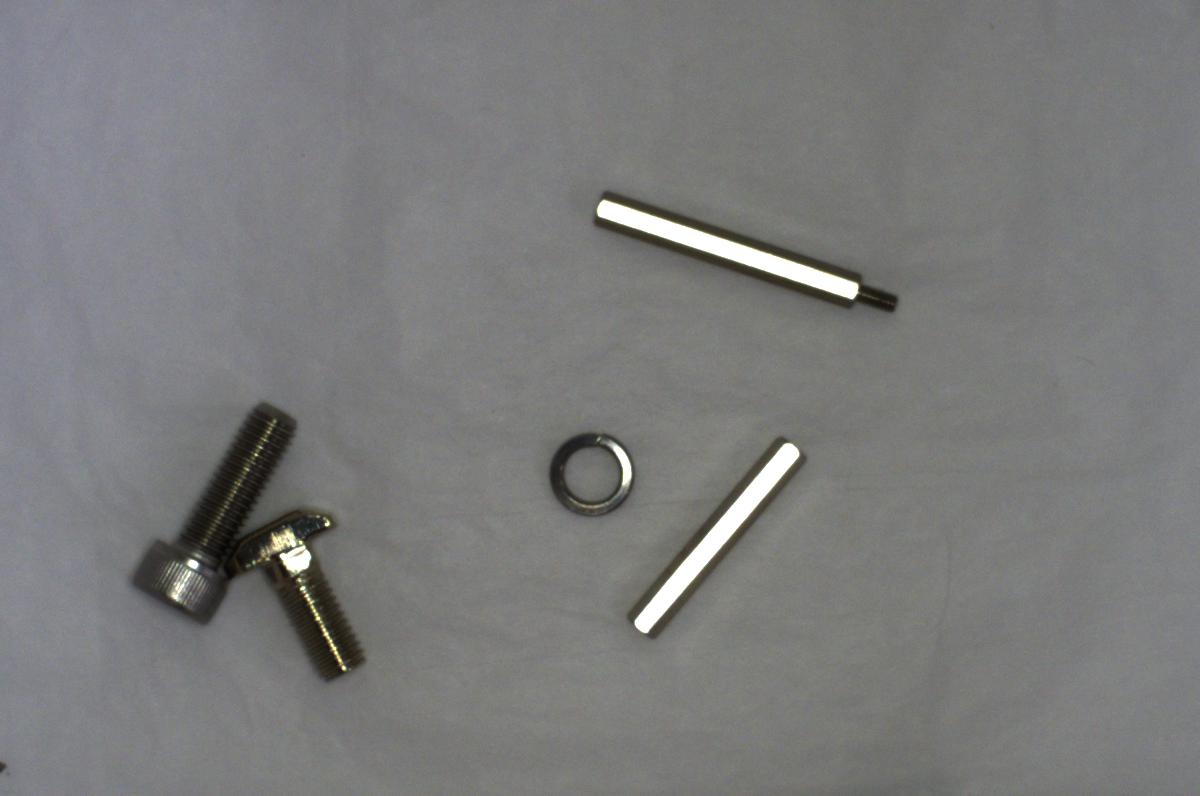Double hexagonal column: (622, 433, 810, 633)
Hexagon screw: (126, 393, 294, 620)
Hexagonal steel column: (578, 186, 900, 321)
Spring washer: (537, 428, 641, 520)
T-shaped screw: (228, 501, 366, 682)
